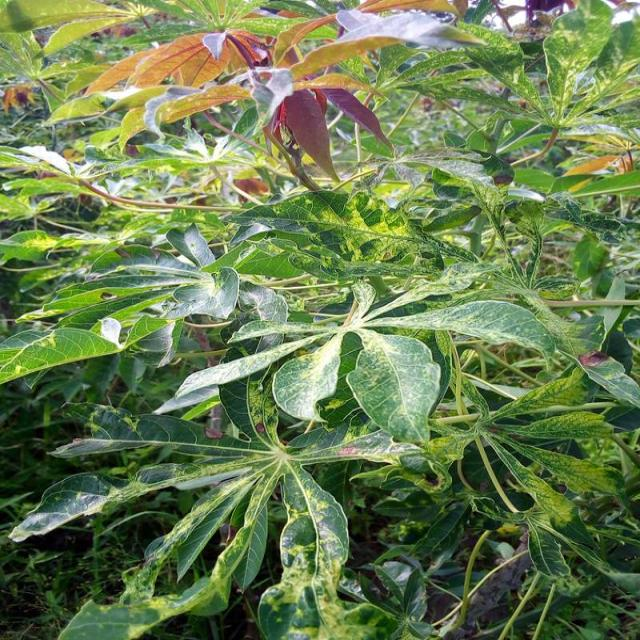cassava leaf: (1, 1, 638, 638), (345, 325, 441, 445)
